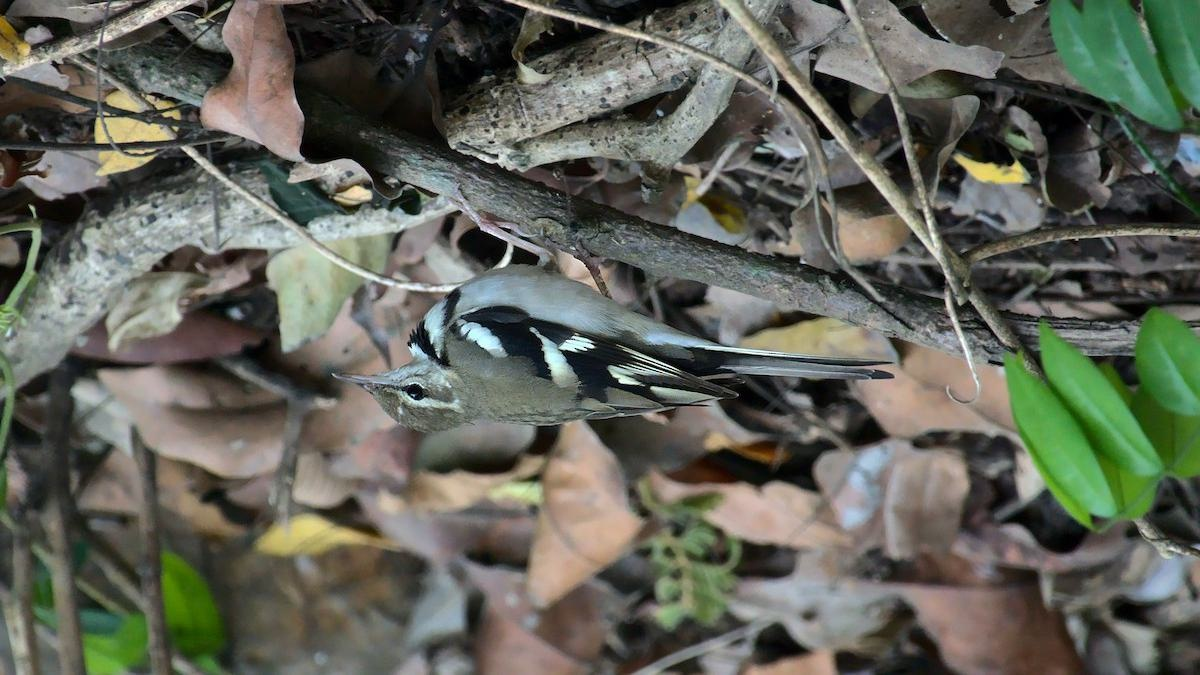wagtail: (307, 230, 875, 425)
